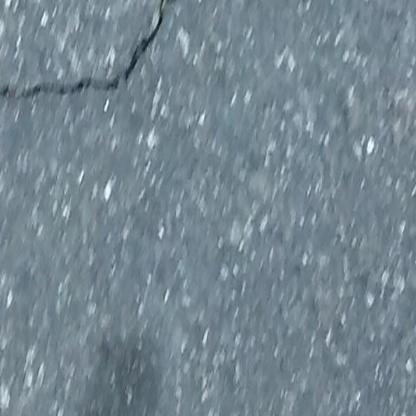Cracks: (0, 0, 213, 108)
